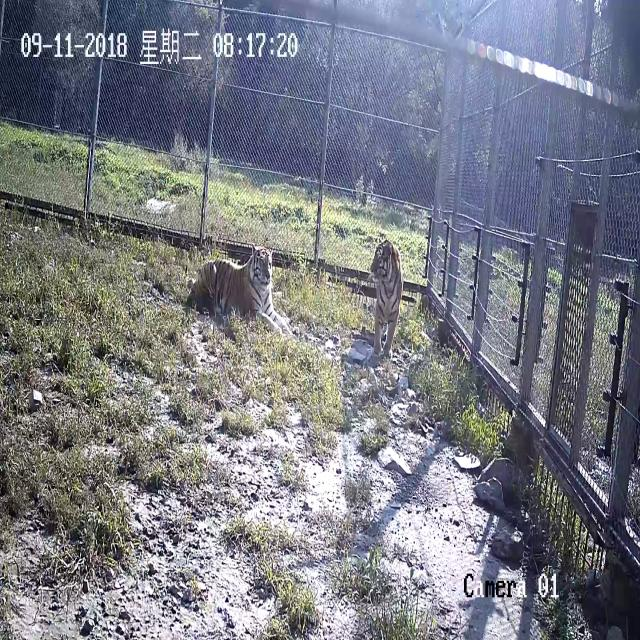Tiger: (184, 235, 300, 363), (368, 230, 406, 361)
